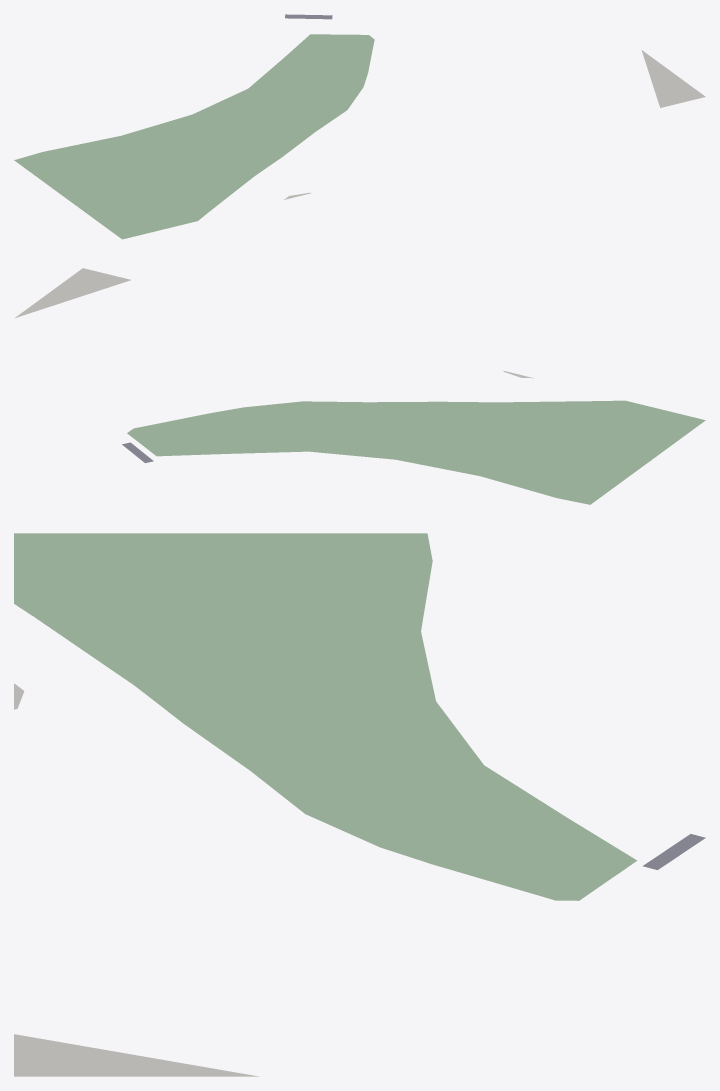
File: 103_112_mid.glb
3 renders of one model, top to bottom at view 1: azimuth 30°, elevation 25°; view 2: azimuth 150°, elevation 25°; view 3: azimuth 270°, elevation 25°, orthographic. The views are drawn at different scales.
Bounding box in the file's own units: 500 × 6.92 × 269.
